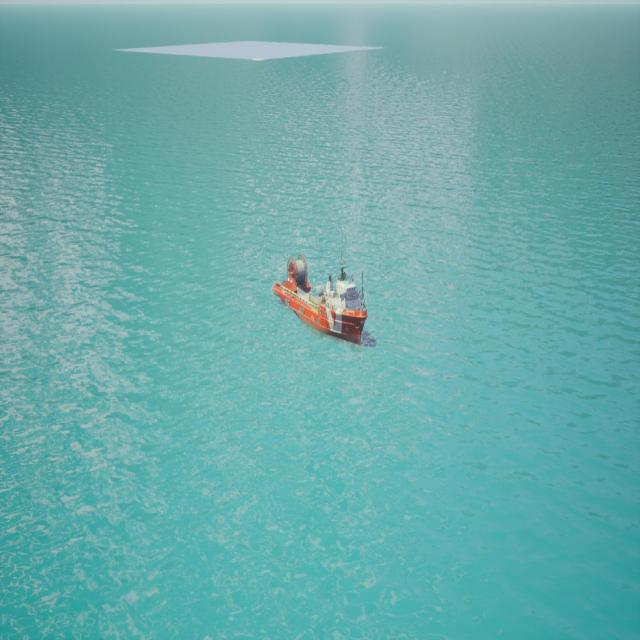tug boat: (273, 277, 371, 347)
